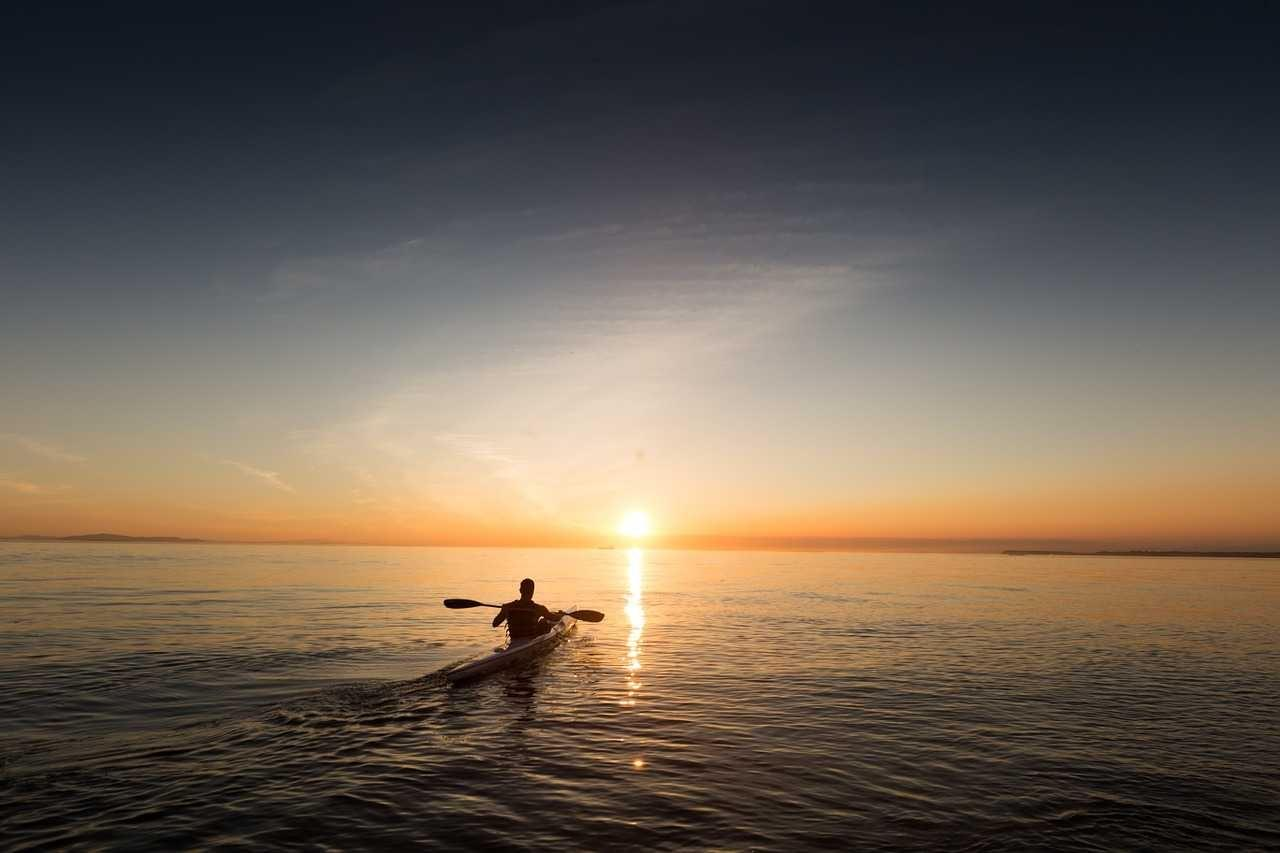kayak: (438, 618, 574, 686)
